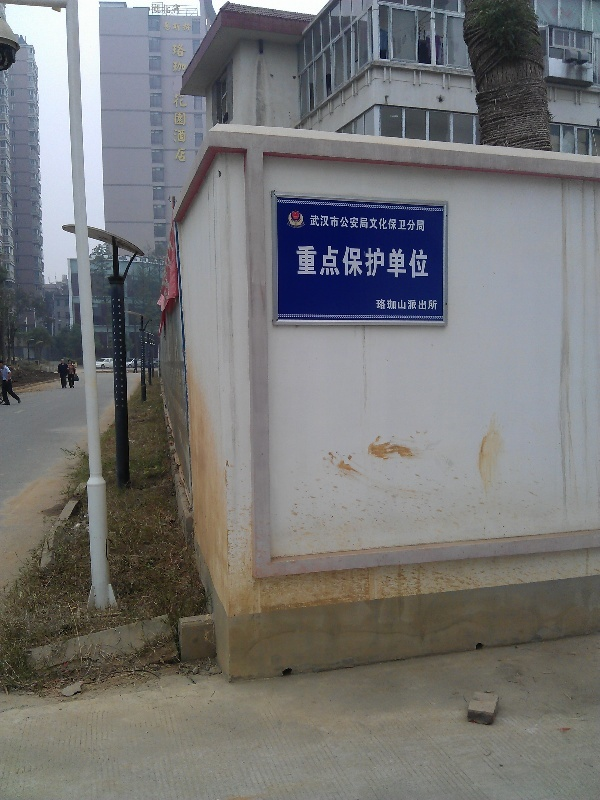text: (177, 95, 189, 165), (305, 244, 320, 283), (321, 244, 336, 283), (337, 244, 352, 283), (353, 244, 368, 283), (369, 244, 384, 283), (385, 244, 400, 283), (401, 244, 416, 283), (291, 244, 304, 283), (417, 244, 429, 283), (171, 95, 176, 165), (177, 42, 187, 75), (321, 215, 336, 234), (337, 215, 352, 234), (353, 215, 368, 234), (369, 215, 384, 234), (385, 215, 400, 234), (401, 215, 416, 234), (417, 215, 429, 234), (309, 215, 320, 234), (385, 298, 400, 311), (401, 298, 416, 311), (417, 298, 432, 311), (171, 42, 176, 75), (177, 22, 191, 33), (161, 4, 176, 14), (164, 22, 176, 33), (376, 298, 384, 311), (433, 298, 440, 311), (151, 4, 160, 14), (177, 4, 180, 14)
